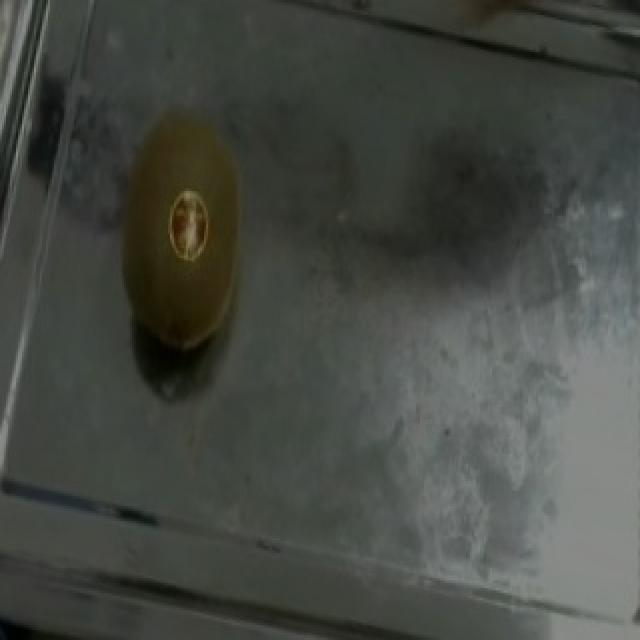Fruit: (86, 87, 278, 384)
